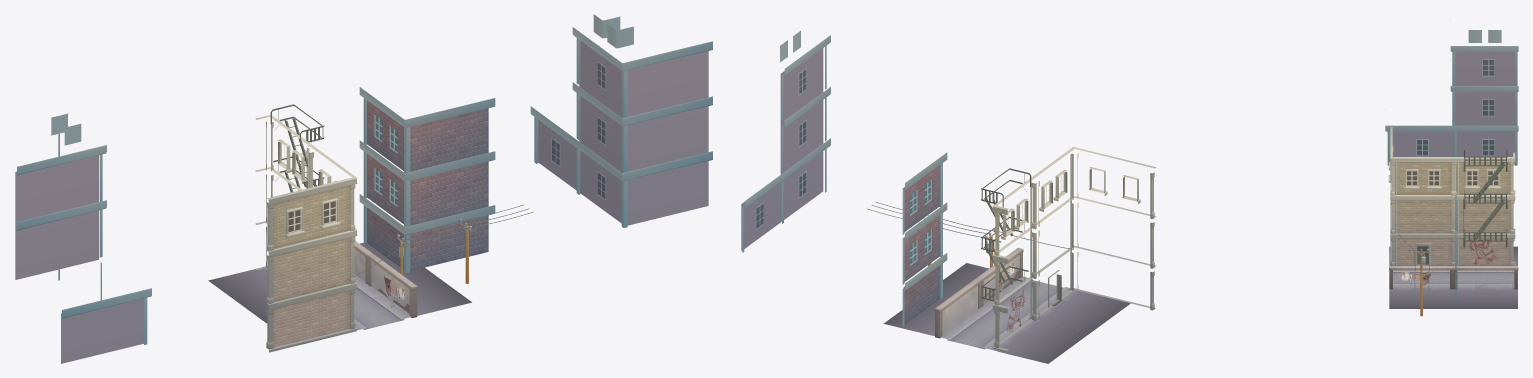
Rendered from UrbanBuilding03.prefab.glb.
The picture shows the model from 3 angles, left to right: view 1: azimuth 30°, elevation 25°; view 2: azimuth 150°, elevation 25°; view 3: azimuth 270°, elevation 25°; orthographic projection. The views are drawn at different scales.
Visible parts, largest first — view 1: FarBackBuilding02, BackgroundBuilding02, Building03 (1), UrbanBuilding03, Road02, PlasteredWall02, FireEscape (1); view 2: FarBackBuilding02, Building03 (1), BackgroundBuilding02, Road02, UrbanBuilding03, PlasteredWall01, FireEscape (1), PlasteredWall02; view 3: Building03 (1), FarBackBuilding02, Road02, UrbanBuilding03, FireEscape (1), PlasteredWall01, PlasteredWall02, BackgroundBuilding02, Graffiti07, TelegraphPole02, Graffiti02, TelegraphPole01.
Boxes of the visible parts, x1,y1,x2,y2 form: FarBackBuilding02: (15,14,712,363); BackgroundBuilding02: (359,87,495,272); Building03 (1): (255,115,357,352); UrbanBuilding03: (253,270,471,345); Road02: (208,242,427,312); PlasteredWall02: (367,254,418,318); FireEscape (1): (270,104,324,192); FarBackBuilding02: (741,30,830,252); Building03 (1): (992,147,1156,352); BackgroundBuilding02: (902,152,947,326); Road02: (883,298,1089,363); UrbanBuilding03: (943,263,1130,333); PlasteredWall01: (934,278,981,338); FireEscape (1): (981,168,1031,318); PlasteredWall02: (977,247,1023,306); Building03 (1): (1388,127,1515,265); FarBackBuilding02: (1385,30,1518,165); Road02: (1453,246,1517,308); UrbanBuilding03: (1389,246,1453,308); FireEscape (1): (1463,150,1507,247); PlasteredWall01: (1453,266,1518,289); PlasteredWall02: (1389,266,1453,289); BackgroundBuilding02: (1455,195,1504,301); Graffiti07: (1469,239,1496,264); TelegraphPole02: (1413,271,1429,316); Graffiti02: (1412,271,1431,285); TelegraphPole01: (1413,248,1429,291).
Size of the model in its own units: 76.34 by 26.28 by 18.7.
Materials: 9 (8 with a texture image).
